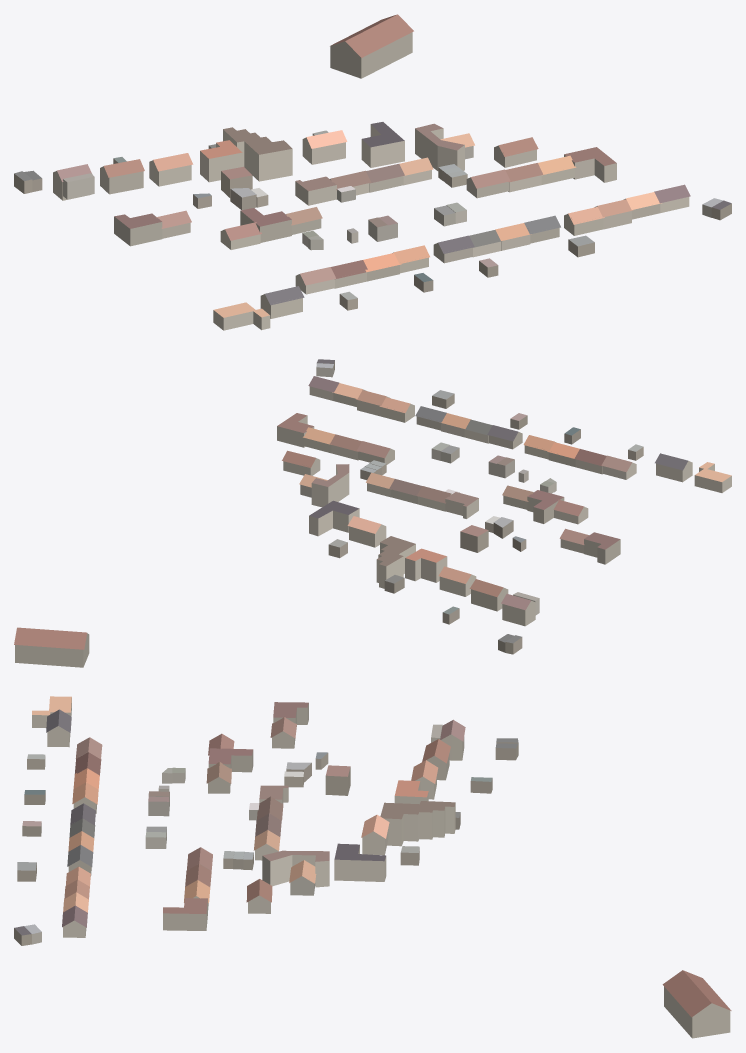
The picture shows the model from 3 angles, top to bottom: view 1: azimuth 30°, elevation 25°; view 2: azimuth 150°, elevation 25°; view 3: azimuth 270°, elevation 25°; orthographic projection. The views are drawn at different scales.
Visible parts, largest first — view 1: tuile; view 2: tuile; view 3: tuile.
Boxes of the visible parts, left/top/right/bottom form: tuile: left=14, top=14, right=731, bottom=330; tuile: left=14, top=359, right=731, bottom=667; tuile: left=14, top=696, right=731, bottom=1038.
Size of the model in its own units: 176 by 33.41 by 213.
